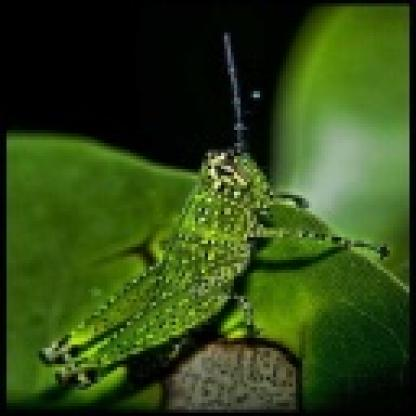grasshopper: (45, 45, 351, 374)
